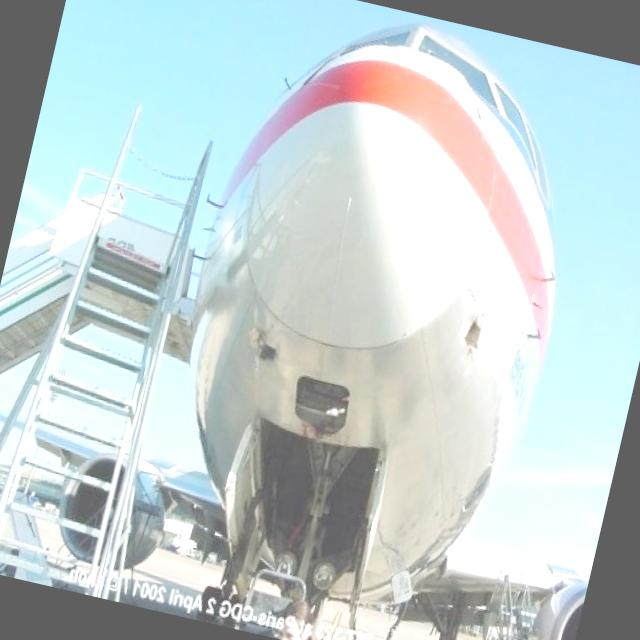dent: (248, 320, 286, 366), (456, 314, 492, 354)
